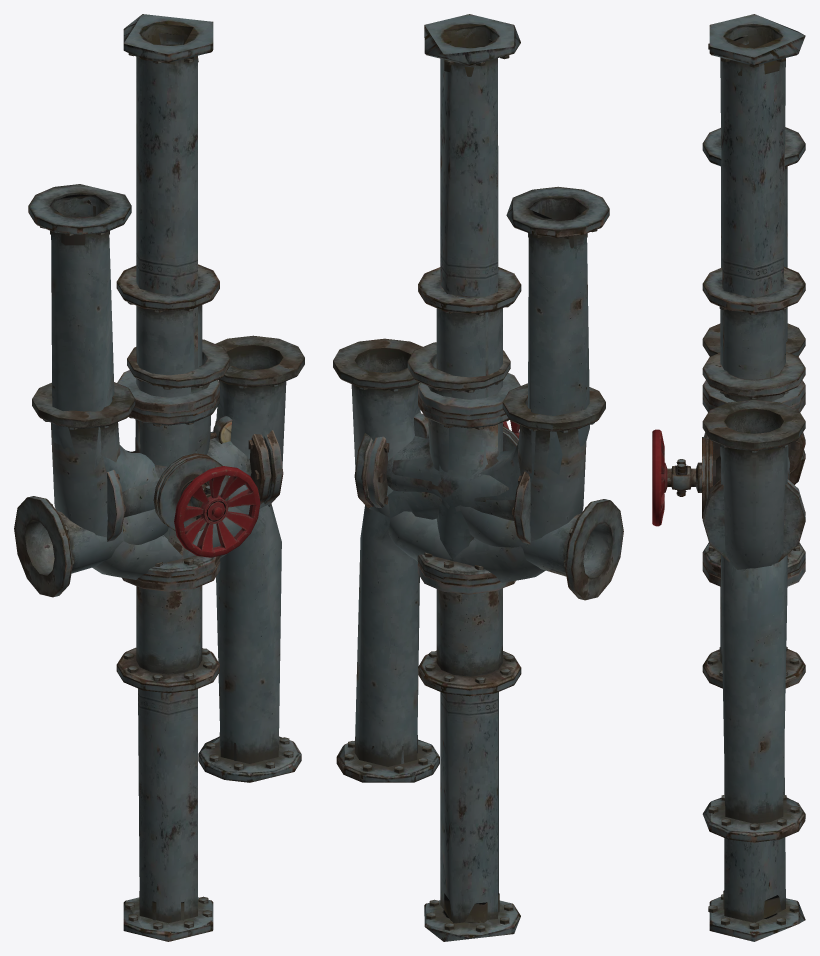
Rendered from modular_industrial_pipes_01.glb.
The picture shows the model from 3 angles, left to right: view 1: azimuth 30°, elevation 25°; view 2: azimuth 150°, elevation 25°; view 3: azimuth 270°, elevation 25°; orthographic projection.
Parts seen in each view (by area): view 1: pipe02, pipe03, pipe05, pipe01, pipe04, pipe08, pipe07, pipe06; view 2: pipe03, pipe02, pipe05, pipe01, pipe07, pipe04, pipe06, pipe08; view 3: pipe02, pipe03, pipe05, pipe01, pipe08, pipe06, pipe04, pipe07.
Part boxes in pixels (x1,y1,x2,y2): pipe02: (123, 14, 213, 941); pipe03: (28, 184, 301, 782); pipe05: (32, 335, 304, 579); pipe01: (116, 264, 219, 693); pipe04: (14, 339, 230, 597); pipe08: (132, 392, 260, 583); pipe07: (107, 370, 271, 591); pipe06: (128, 396, 283, 576); pipe03: (336, 186, 609, 782); pipe02: (424, 14, 520, 941); pipe05: (333, 338, 605, 582); pipe01: (418, 267, 521, 696); pipe07: (366, 373, 530, 594); pipe04: (407, 342, 623, 600); pipe06: (354, 400, 509, 579); pipe08: (414, 395, 519, 586); pipe02: (708, 14, 805, 941); pipe03: (702, 127, 805, 842); pipe05: (702, 323, 805, 569); pipe01: (702, 266, 805, 688); pipe08: (652, 392, 805, 577); pipe06: (702, 397, 805, 574); pipe04: (702, 352, 805, 484); pipe07: (702, 380, 805, 586).
Bounding box in the file's own units: 0.6067 × 1.95 × 0.3075.
2 materials, 2 textured.
